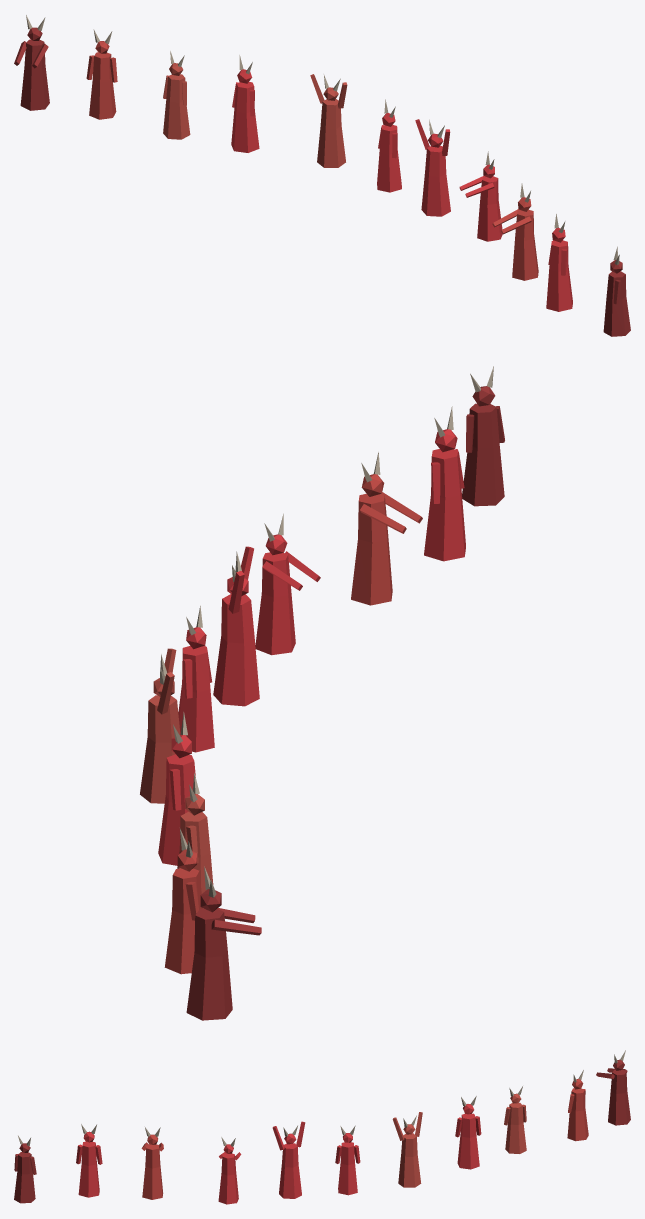
The model's file is Stands_7_1_2_Ice.obj.
The picture shows the model from 3 angles, top to bottom: view 1: azimuth 30°, elevation 25°; view 2: azimuth 150°, elevation 25°; view 3: azimuth 270°, elevation 25°; orthographic projection. The views are drawn at different scales.
Visible parts, largest first — view 1: Stands_7_1_2_Ice; view 2: Stands_7_1_2_Ice; view 3: Stands_7_1_2_Ice.
Part boxes in pixels (box(x1,y1,x2,y2)): Stands_7_1_2_Ice: box(14, 15, 630, 336); Stands_7_1_2_Ice: box(140, 366, 504, 1020); Stands_7_1_2_Ice: box(14, 1050, 630, 1204).
Bounding box in the file's own units: 11.8 × 4.08 × 32.66.
Materials: 1 (1 with a texture image).
